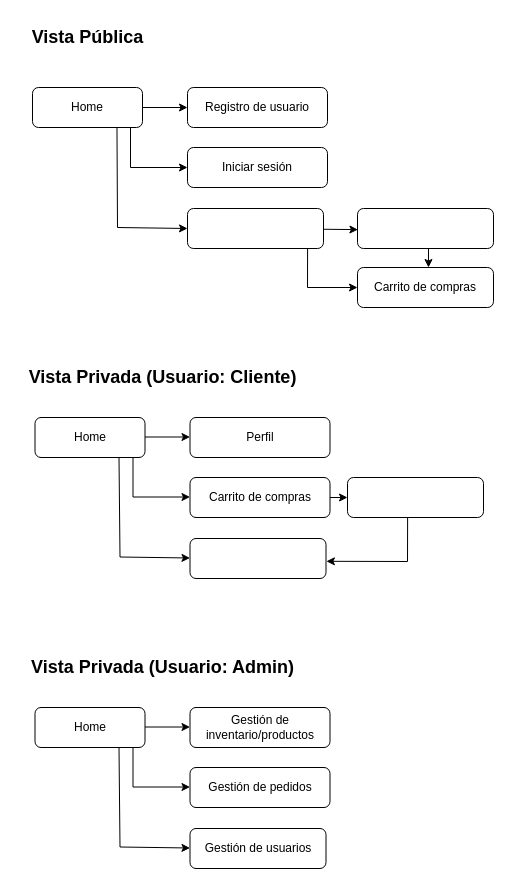
Some shapes in this 511 by 886 pixel diagram are drawn without their labels. The shapes that lost their labels are listed below. From the top down, each one's box as (x1, y1, x2, y2) in pixels, then its label:
(186, 208, 324, 248): Galería de Productos
(356, 208, 494, 248): Ficha de Producto
(346, 476, 484, 518): Checkout/Pago
(189, 538, 326, 578): Historial de pedidos
